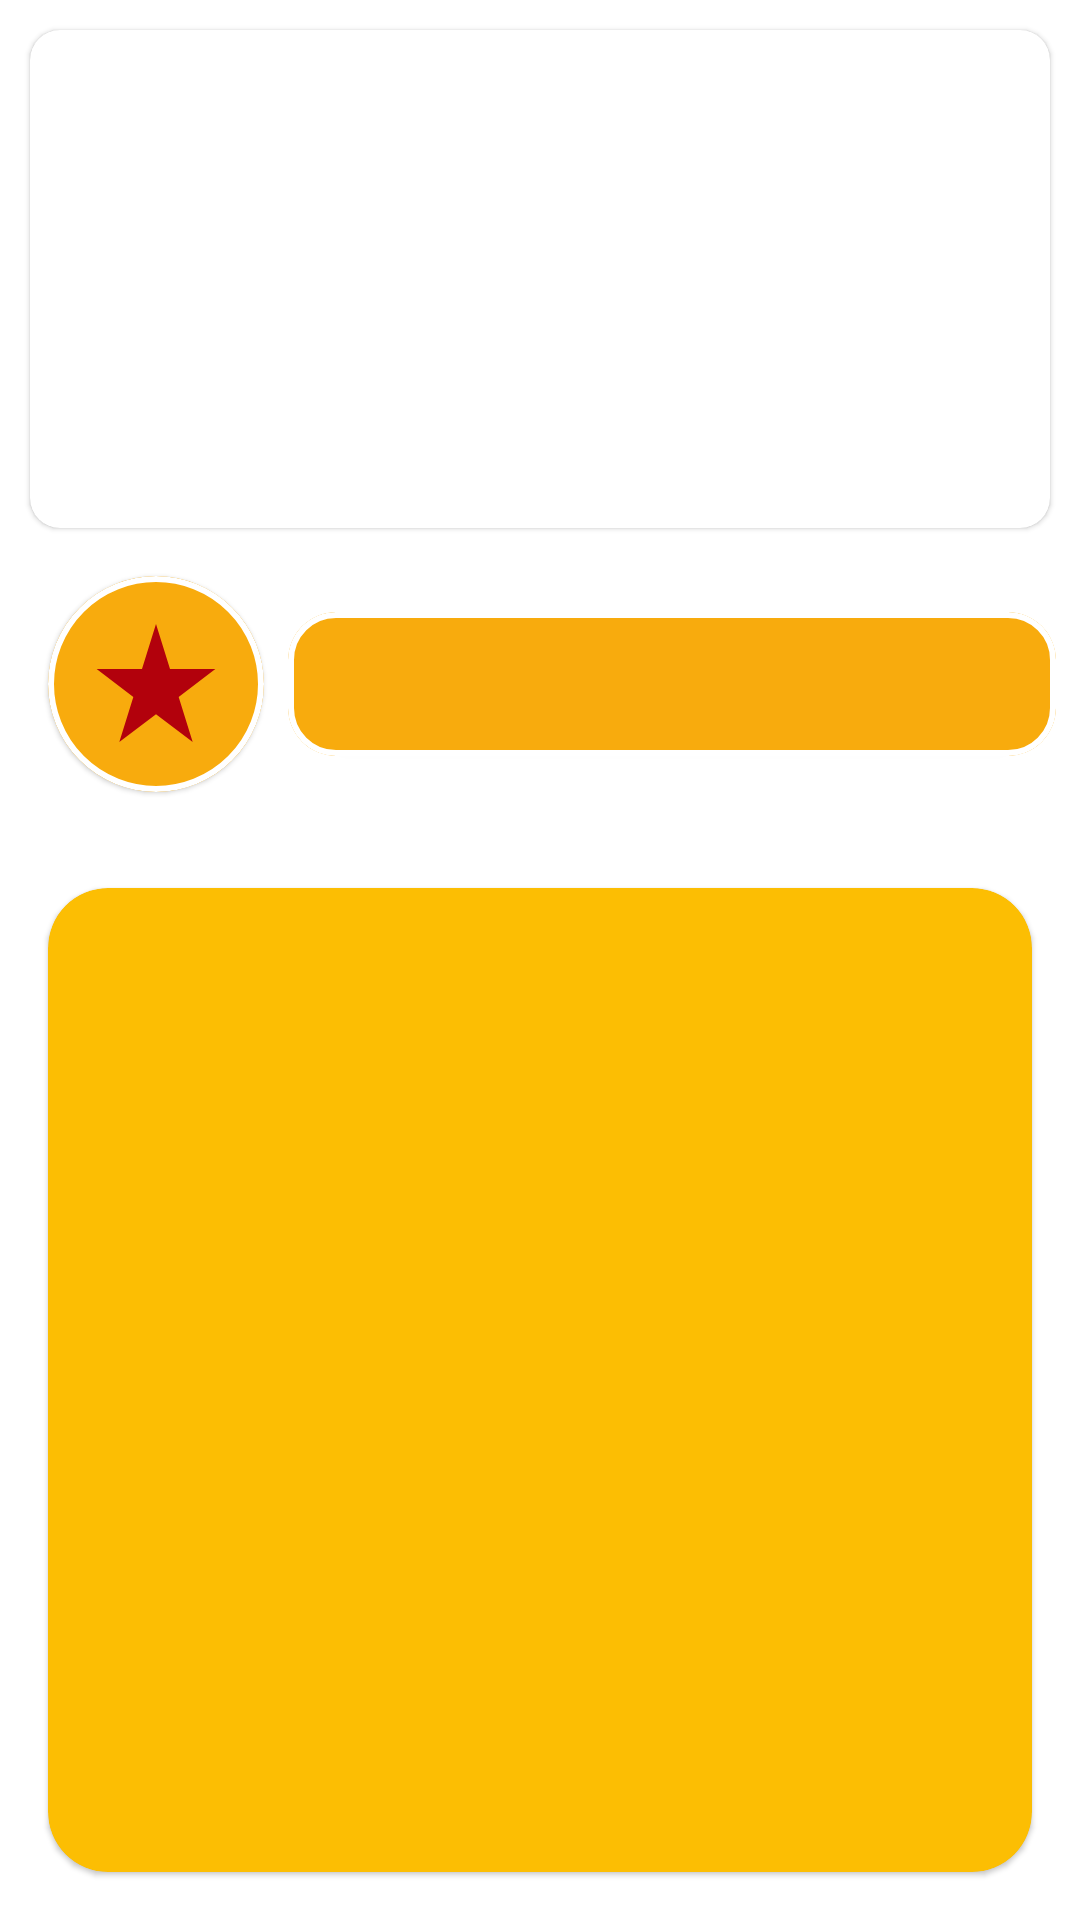

Point at icon controls on the screen. Image size 1080*1920, points as [x,y].
star: [156,683]
